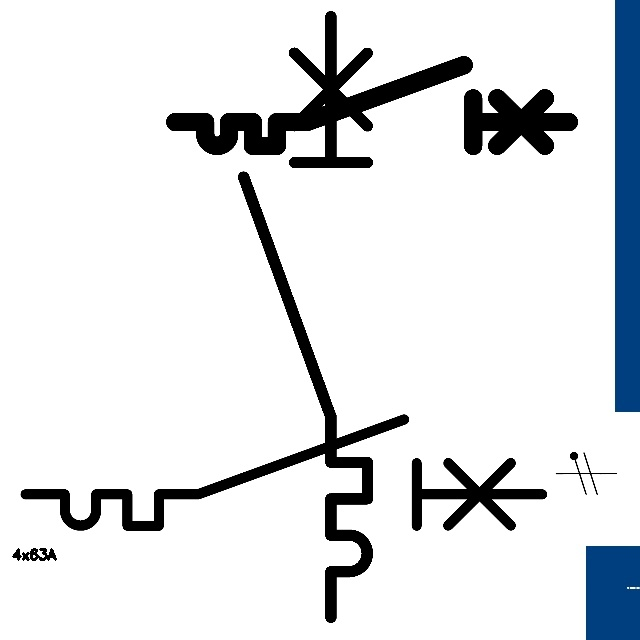interruptor_termomagnetico: (228, 1, 383, 633), (12, 406, 555, 539), (165, 55, 579, 156)
